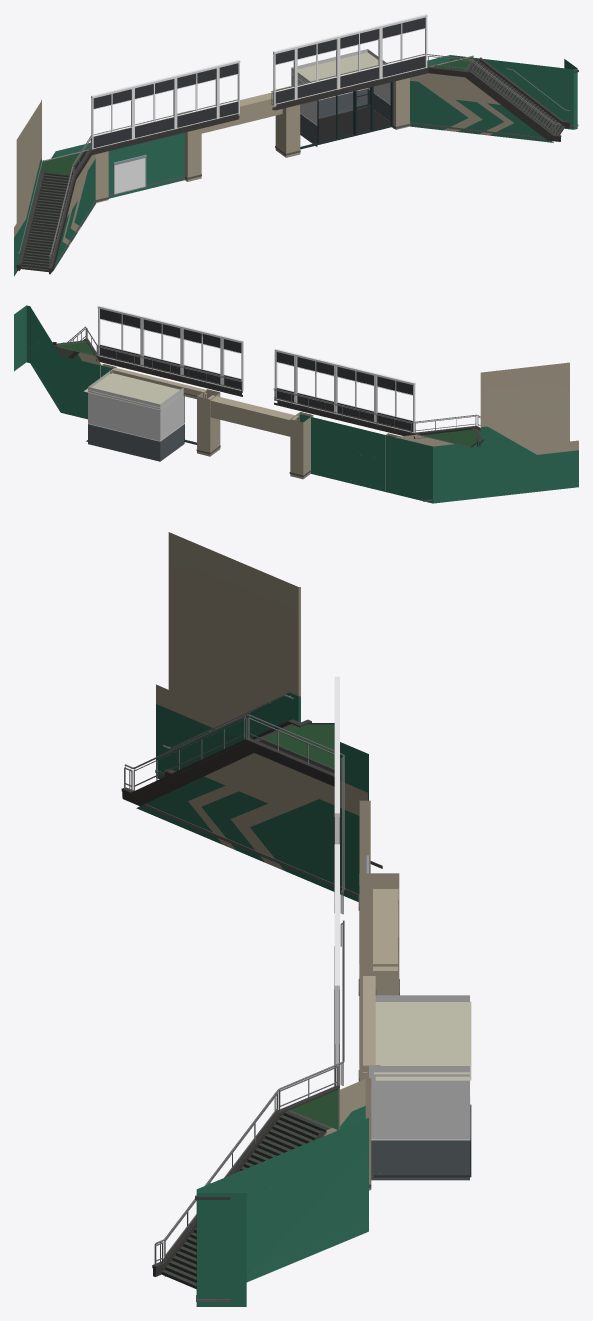
The model's file is SM_H_Building_Tide_MedicalRoom_18_ATLAS.fbx.
3 renders of one model, top to bottom at view 1: azimuth 30°, elevation 25°; view 2: azimuth 150°, elevation 25°; view 3: azimuth 270°, elevation 25°, orthographic. The views are drawn at different scales.
Parts seen in each view (by area): view 1: SM_H_Building_Tide_MedicalRoom_18_ATLAS; view 2: SM_H_Building_Tide_MedicalRoom_18_ATLAS; view 3: SM_H_Building_Tide_MedicalRoom_18_ATLAS.
Boxes of the visible parts, x1,y1,x2,y2 form: SM_H_Building_Tide_MedicalRoom_18_ATLAS: (14, 14, 578, 276); SM_H_Building_Tide_MedicalRoom_18_ATLAS: (14, 305, 578, 503); SM_H_Building_Tide_MedicalRoom_18_ATLAS: (121, 532, 471, 1306).
Size of the model in its own units: 5715 by 1593 by 1265.
